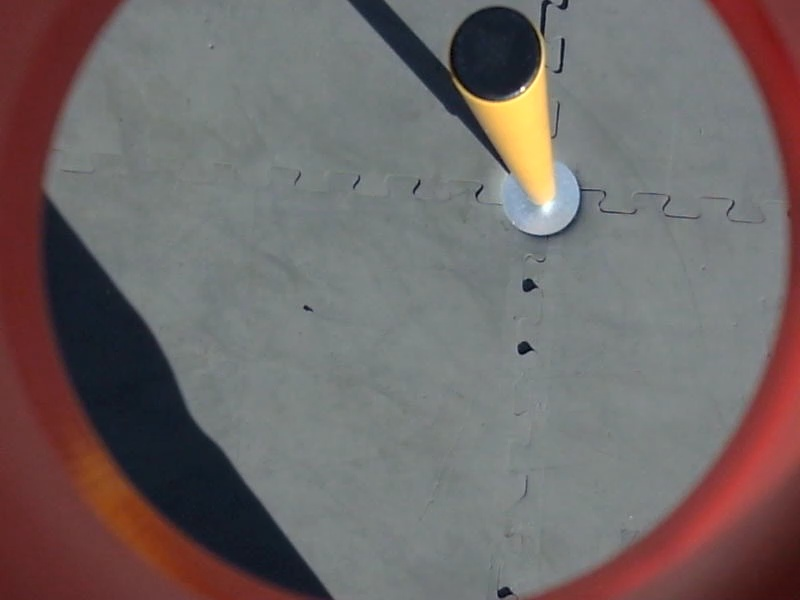tip: (442, 2, 545, 106)
